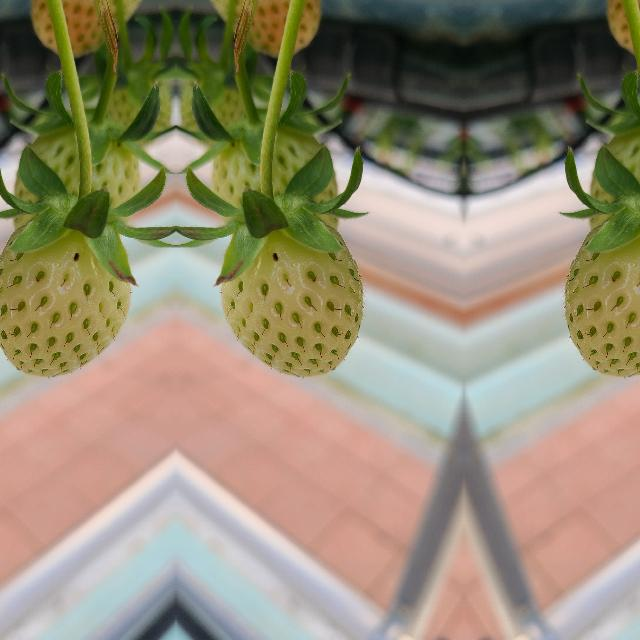Health_25: (220, 230, 362, 376), (0, 229, 130, 376), (211, 119, 341, 238), (9, 119, 139, 238), (563, 229, 640, 376), (585, 118, 640, 237)
Health_50: (205, 0, 324, 56), (25, 0, 144, 56), (601, 0, 640, 56)
